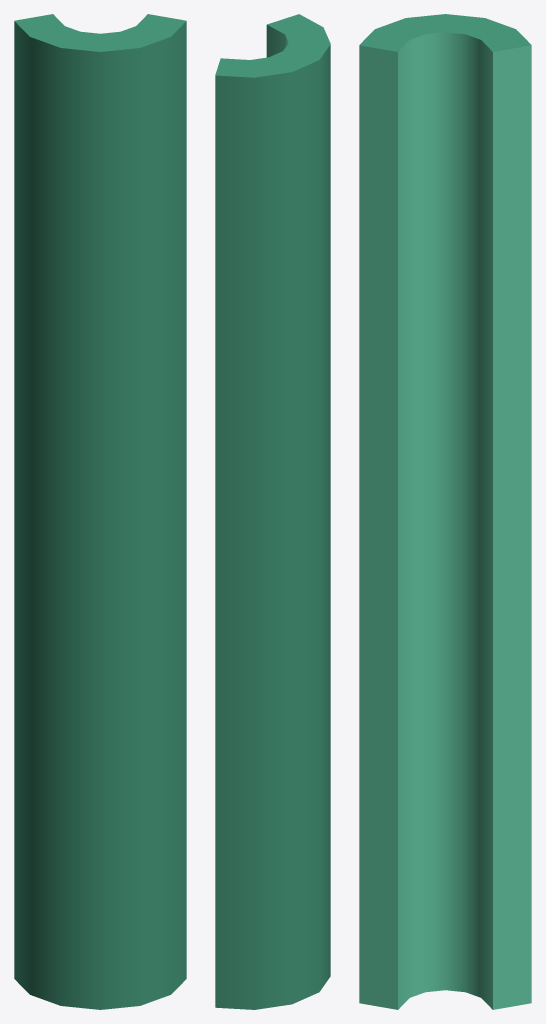
Rendered from celeryStick.obj.
3 views of the same model, side by side, from view 1: azimuth 90°, elevation 25°; view 2: azimuth 150°, elevation 25°; view 3: azimuth 270°, elevation 25° (orthographic). The views are drawn at different scales.
Parts seen in each view (by area): view 1: celeryStick; view 2: celeryStick; view 3: celeryStick.
Part boxes in pixels (left/top/right/bottom): celeryStick: left=14, top=14, right=186, bottom=1009; celeryStick: left=215, top=14, right=330, bottom=1009; celeryStick: left=359, top=14, right=531, bottom=1009.
Bounding box in the file's own units: 0.046 × 0.54 × 0.0882.
